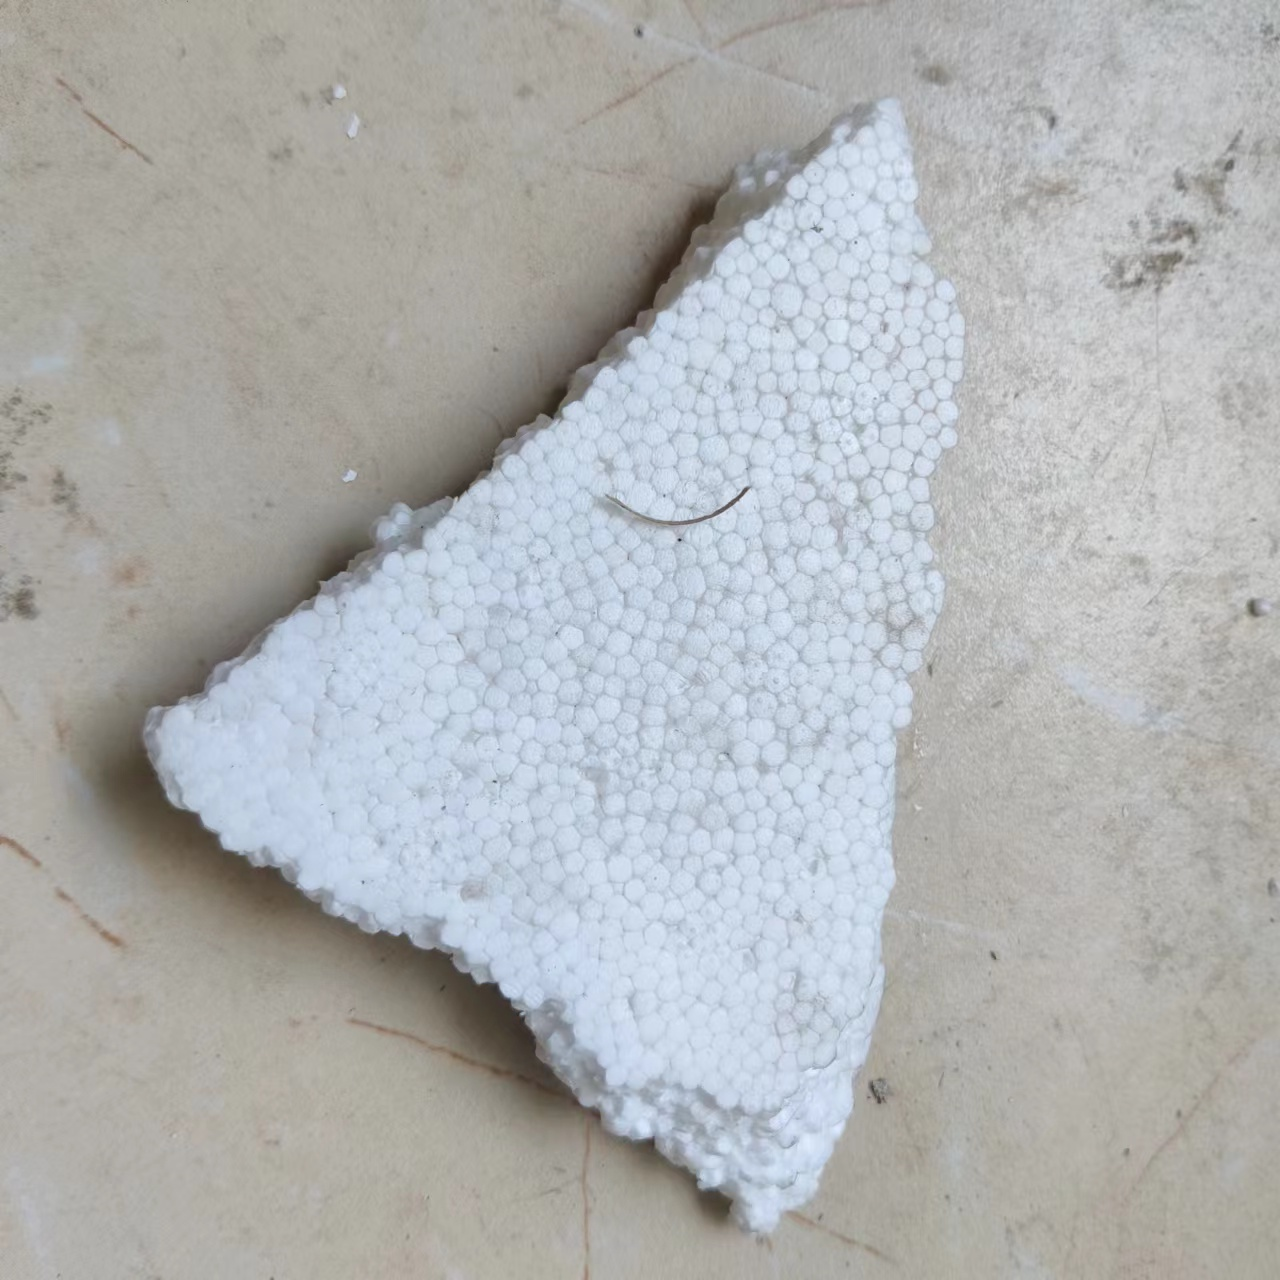5/可回收垃圾/泡沫: (142, 90, 969, 1227)
